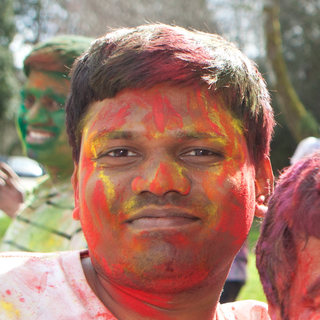eye: (176, 141, 225, 165), (99, 141, 144, 165)
